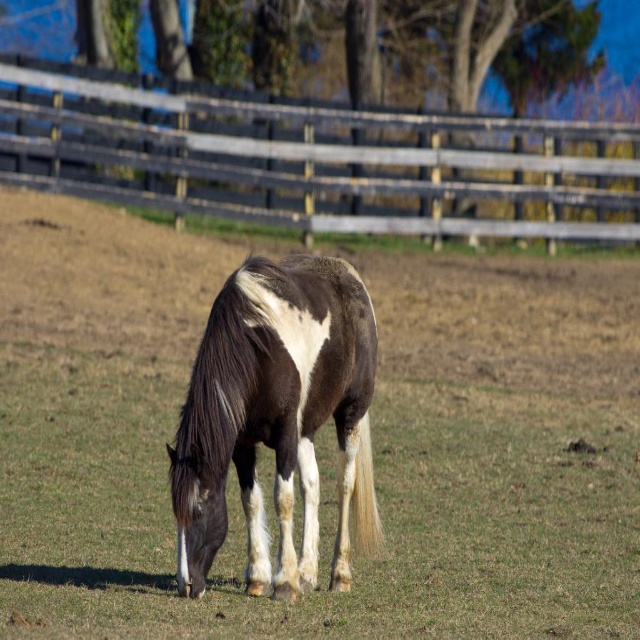Horse: (167, 248, 387, 601)
